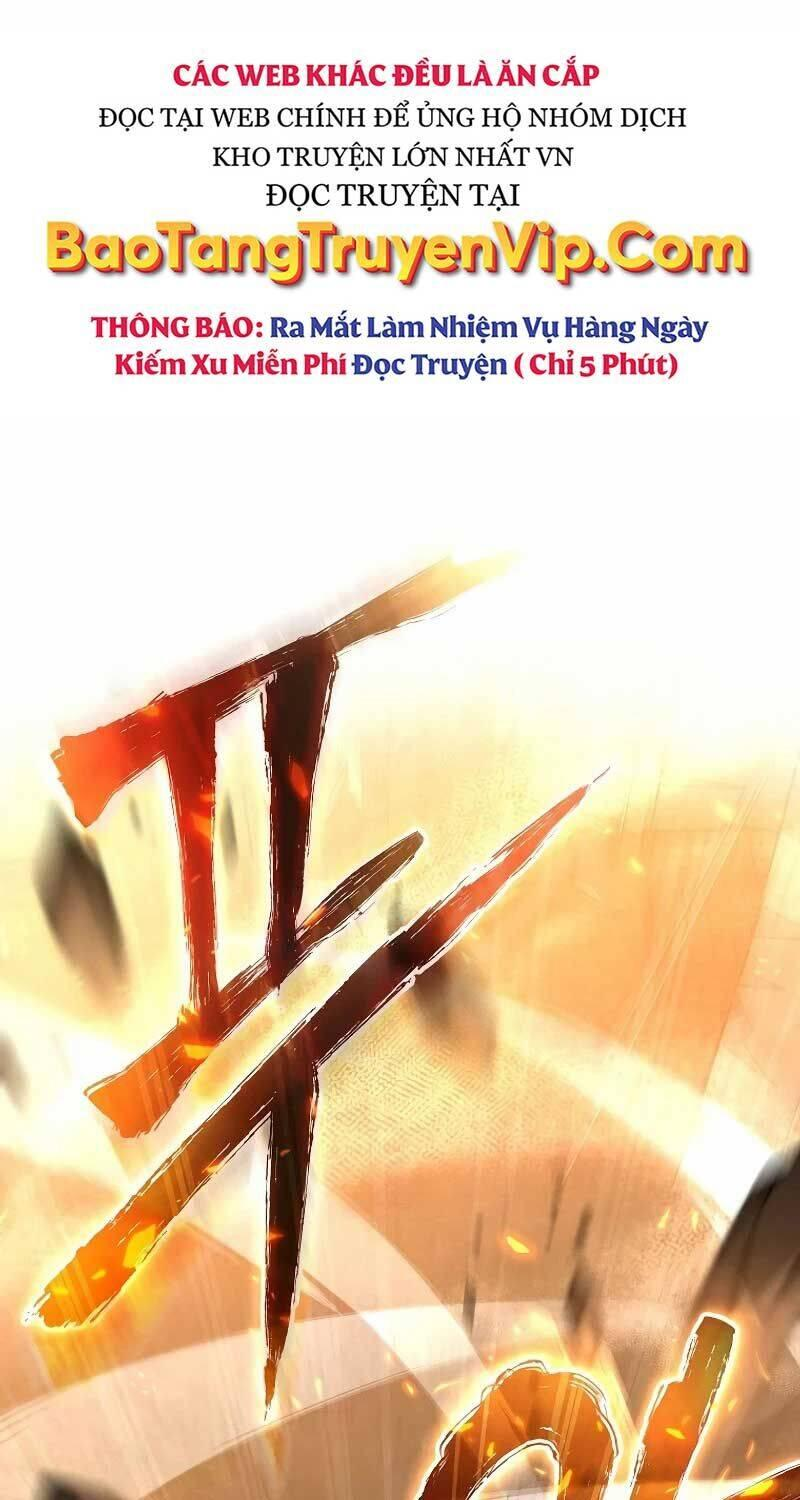quangcao: (36, 46, 762, 400)
